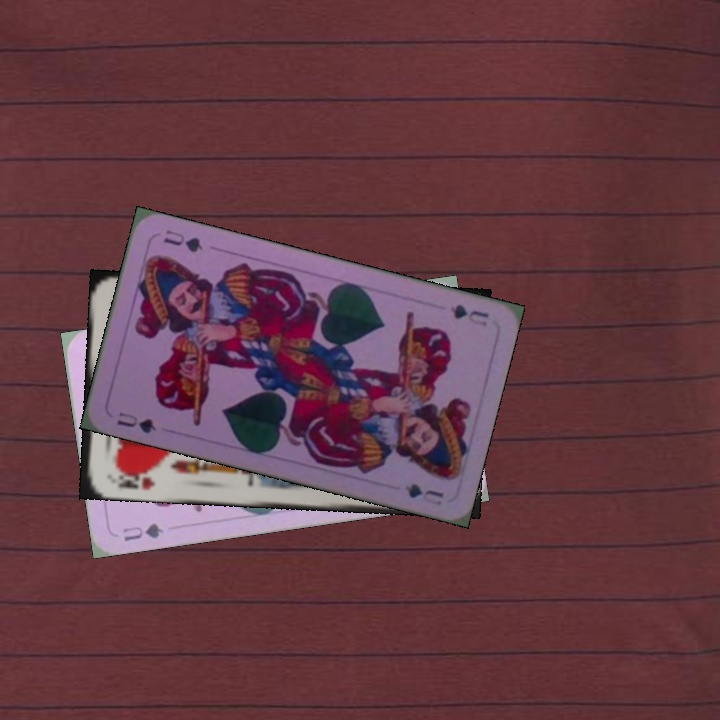GU: (112, 408, 159, 436), (446, 300, 491, 329), (118, 519, 166, 544)
HK: (111, 464, 158, 493)
